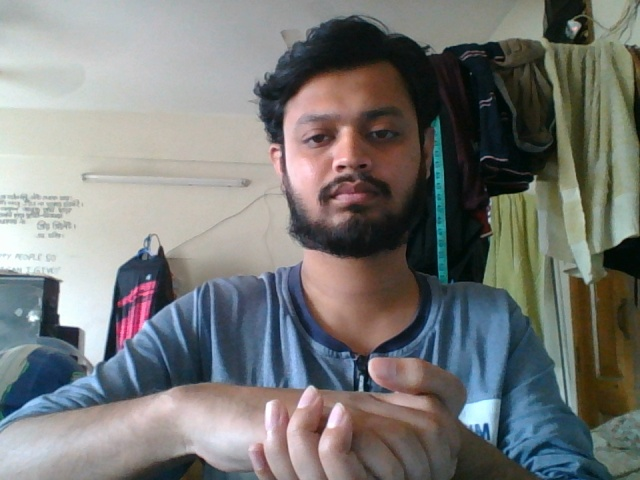bondhu: (97, 348, 556, 480)
